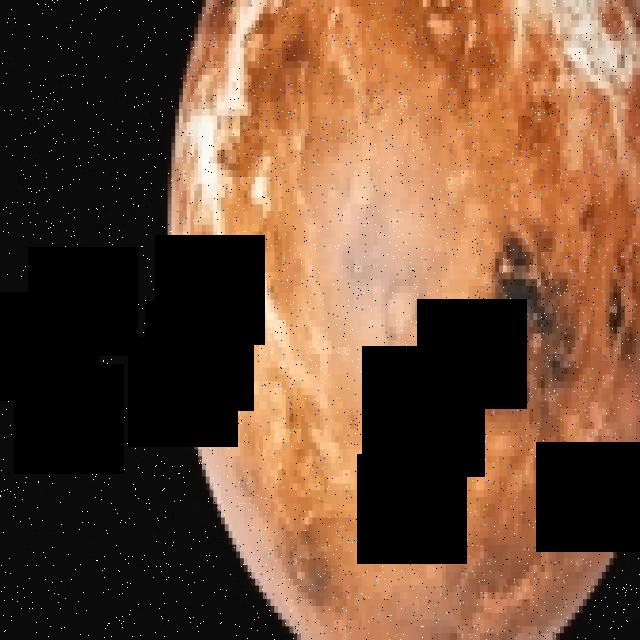Venus: (164, 0, 640, 640)
